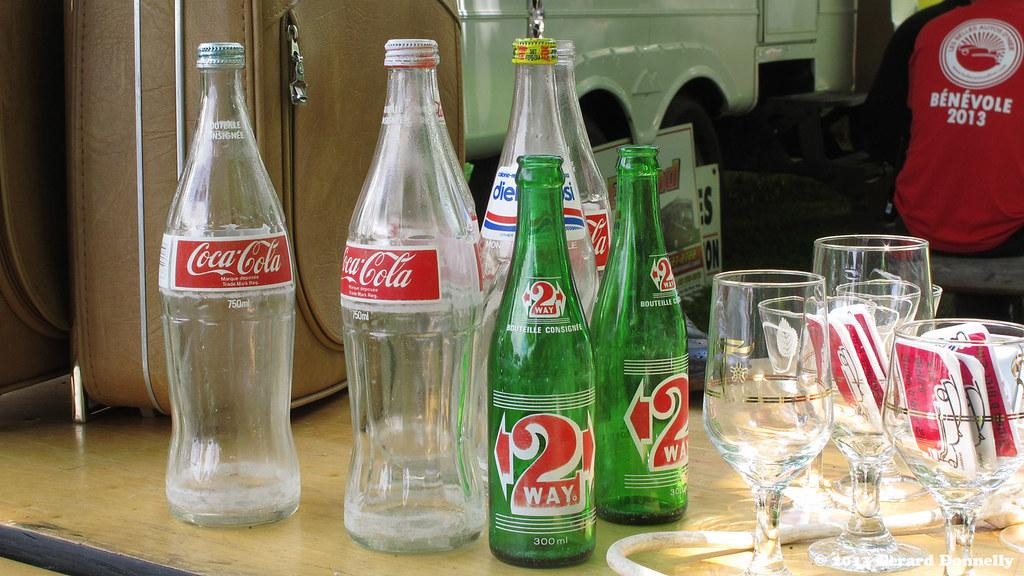bottle: (340, 38, 487, 555), (158, 42, 302, 529), (487, 154, 598, 569), (590, 145, 691, 526), (479, 38, 599, 324), (553, 40, 615, 288)
